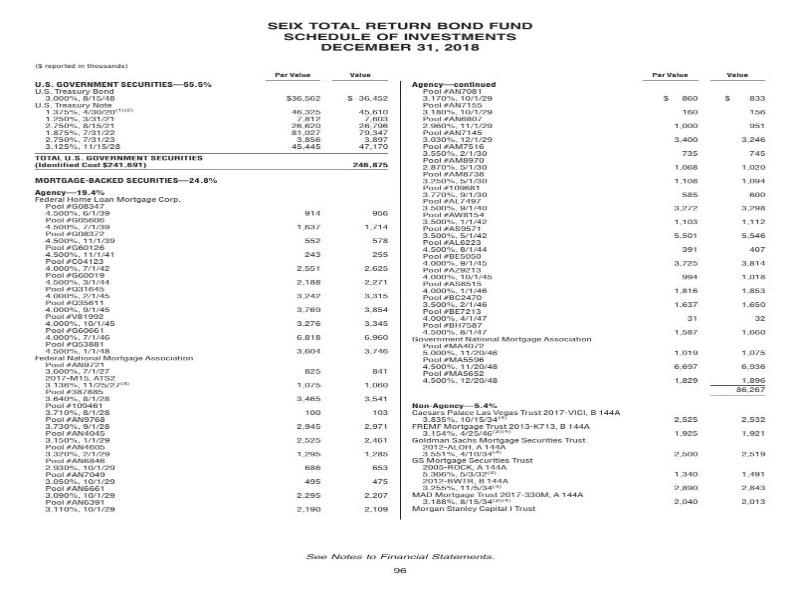table: (13, 50, 406, 536), (391, 61, 788, 528)
